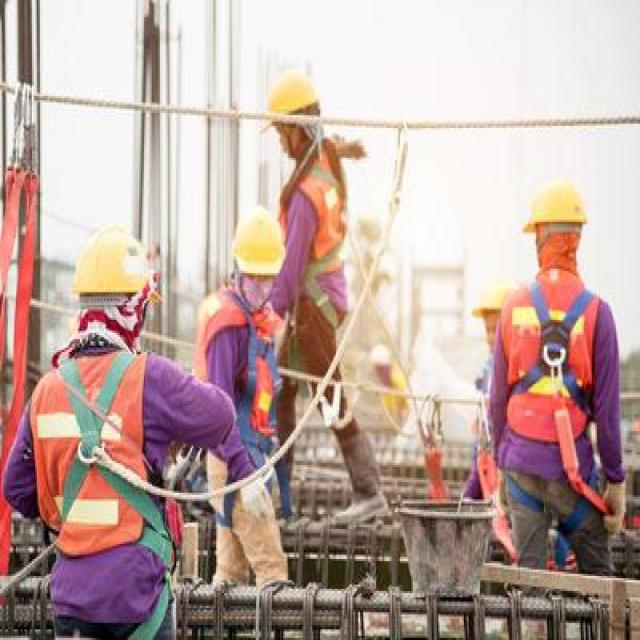Reflective-Jacket: (27, 339, 176, 568), (482, 271, 620, 476), (187, 277, 293, 448), (272, 141, 363, 333)
Safety-Helmet: (61, 209, 165, 316), (253, 58, 333, 143), (514, 167, 598, 246), (221, 196, 293, 288)
